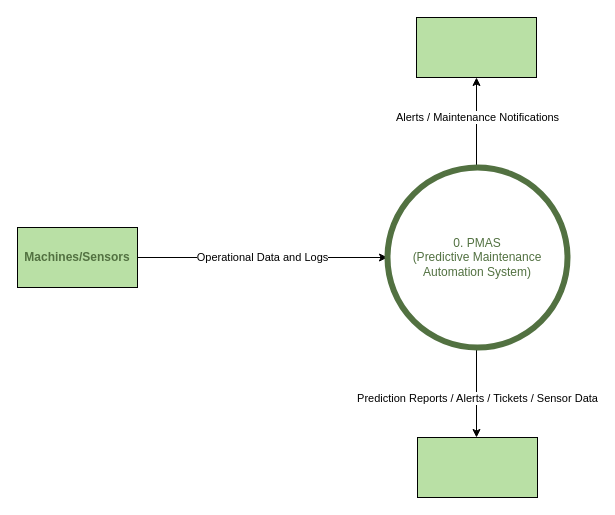
Image size: 615x515. Some labels were removed from this diagram. Here are the shapes that lost their labels. From the top down, the box of each, then its label:
(416, 16, 536, 78): Maintenance Team
(416, 436, 538, 498): D1. Data Store
